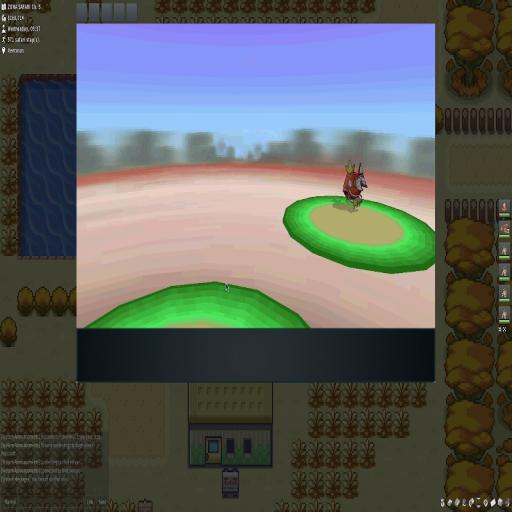MAGIKARP: (342, 159, 369, 211)
